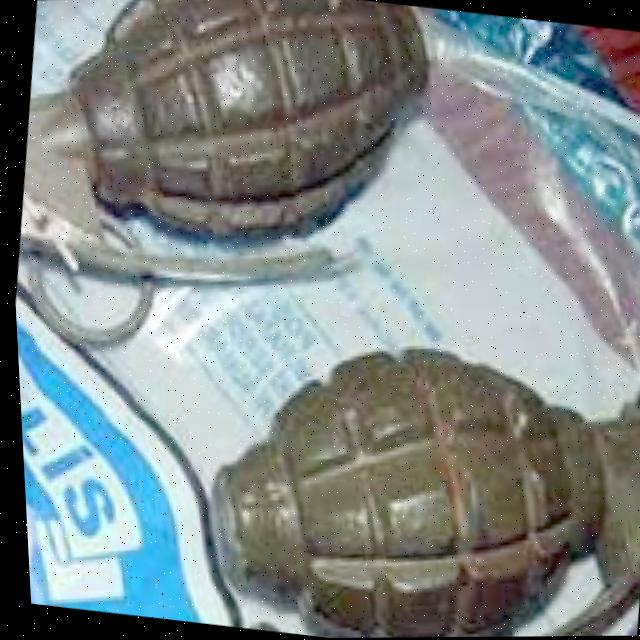grenade: (0, 0, 517, 403), (145, 260, 640, 639)
